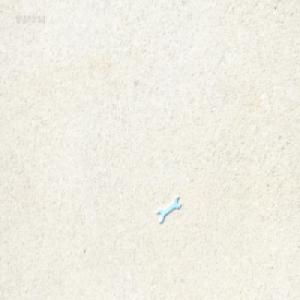Wrench: (158, 194, 182, 223)
